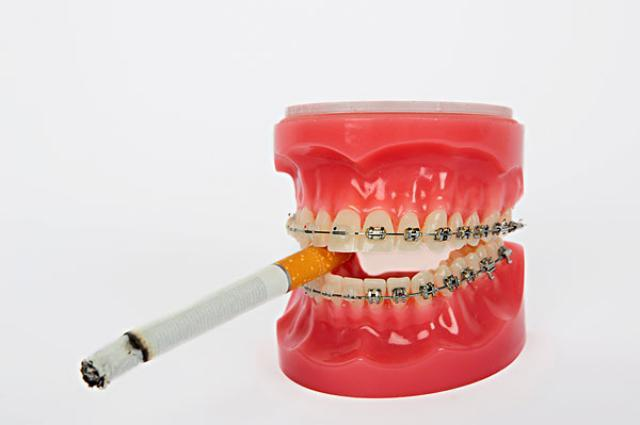Smoking: (80, 243, 354, 391)
